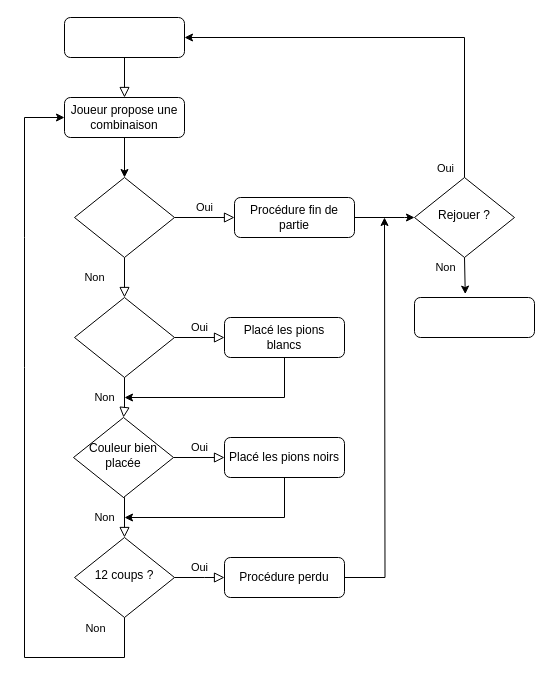
Image size: 552x683. Some labels were removed from this diagram. The shapes that lost their labels are listed below. From the top down, each one's centre as x and y in pixels, then its label:
(x=124, y=37): Initialisation séquence secrète
(x=124, y=217): Gagné ?
(x=124, y=337): Couleur mal placée
(x=474, y=317): Fin
